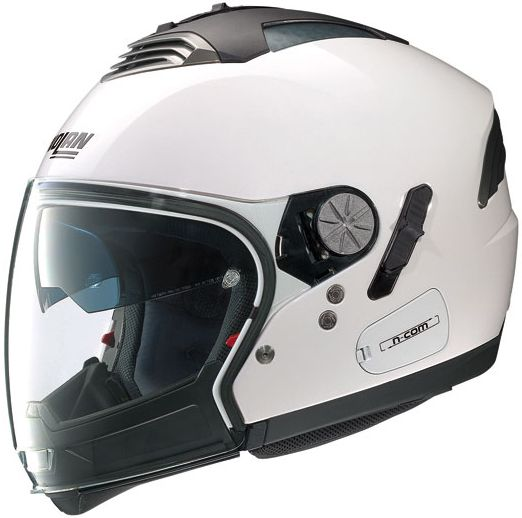with_helmet: (2, 1, 522, 510)
